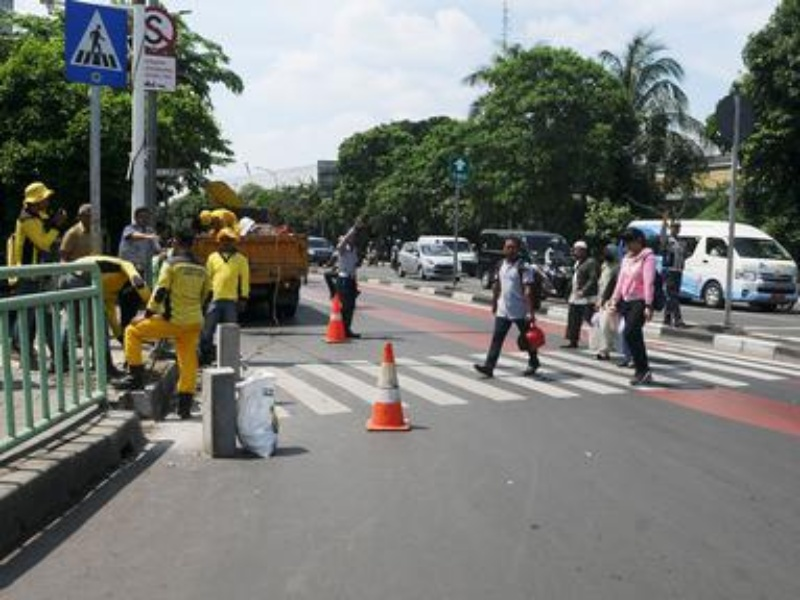zebra cross: (275, 348, 800, 417)
